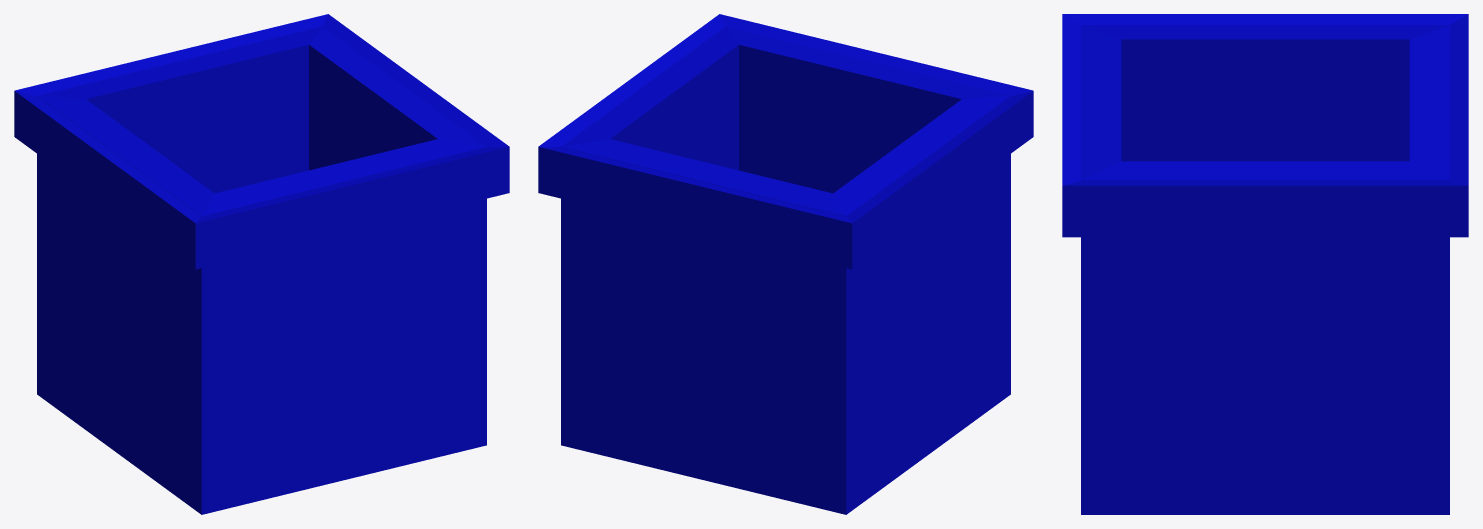
The model's file is boxx.dae.
3 views of the same model, side by side, from view 1: azimuth 30°, elevation 25°; view 2: azimuth 150°, elevation 25°; view 3: azimuth 270°, elevation 25° (orthographic). The views are drawn at different scales.
Visible parts, largest first — view 1: Cube.001; view 2: Cube.001; view 3: Cube.001.
Boxes of the visible parts, x1,y1,x2,y2 form: Cube.001: (14,14,509,514); Cube.001: (538,14,1033,514); Cube.001: (1062,14,1468,514).
Size of the model in its own units: 0.4613 by 0.4613 by 0.4227.
